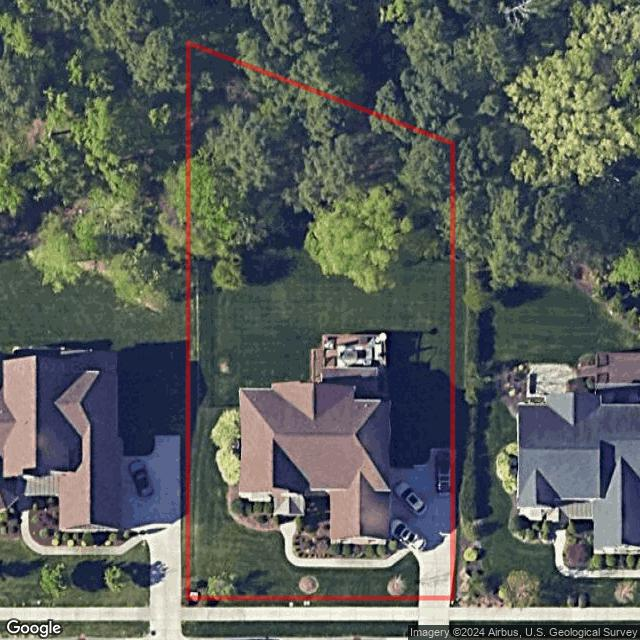Driveway: (388, 449, 455, 598), (220, 407, 279, 531)
Extra-Driveway: (417, 599, 451, 626)
Extra-Lawn: (187, 621, 417, 638), (187, 597, 418, 608)
Extra-Sidewalk: (186, 606, 419, 621)
House: (238, 380, 386, 545)
Lawn: (187, 44, 454, 599)
Other: (189, 45, 455, 214), (294, 493, 407, 560), (309, 334, 387, 400)
Sidewalk: (274, 513, 411, 567), (280, 520, 409, 568)
